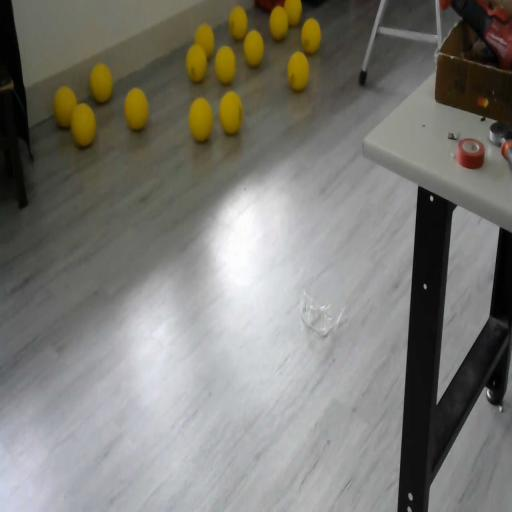FUEL: (69, 102, 97, 148), (123, 85, 150, 130), (188, 96, 214, 142), (218, 90, 244, 134), (90, 63, 113, 103), (214, 44, 236, 84), (287, 51, 309, 91), (243, 28, 265, 67), (194, 22, 216, 60), (300, 16, 322, 54), (268, 4, 289, 40), (229, 6, 248, 40), (283, 0, 302, 26)
